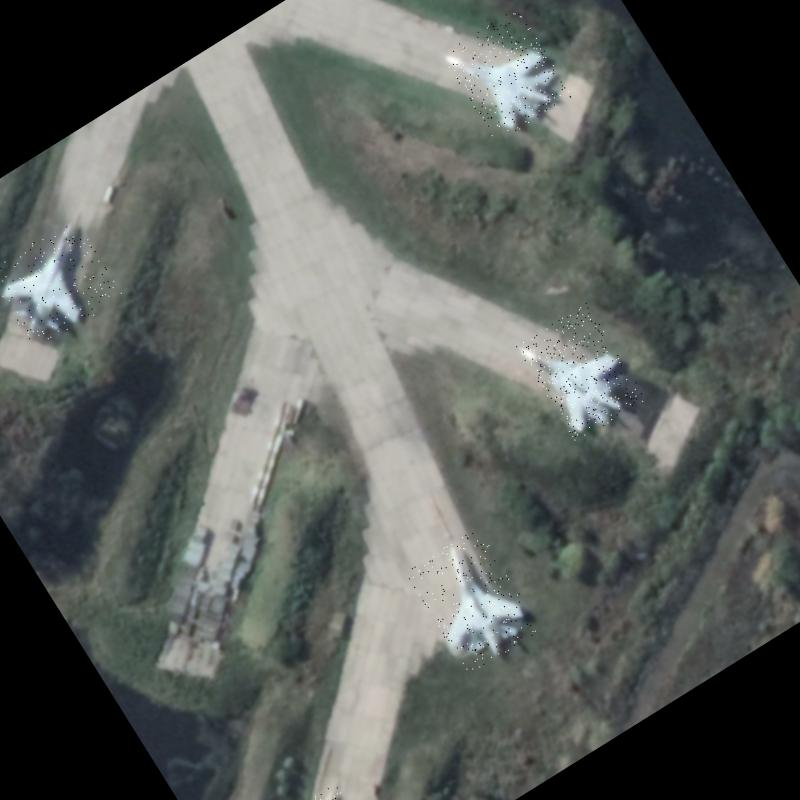A1: (404, 526, 542, 676), (441, 7, 573, 144), (0, 215, 124, 351)
A19: (516, 302, 647, 443)
